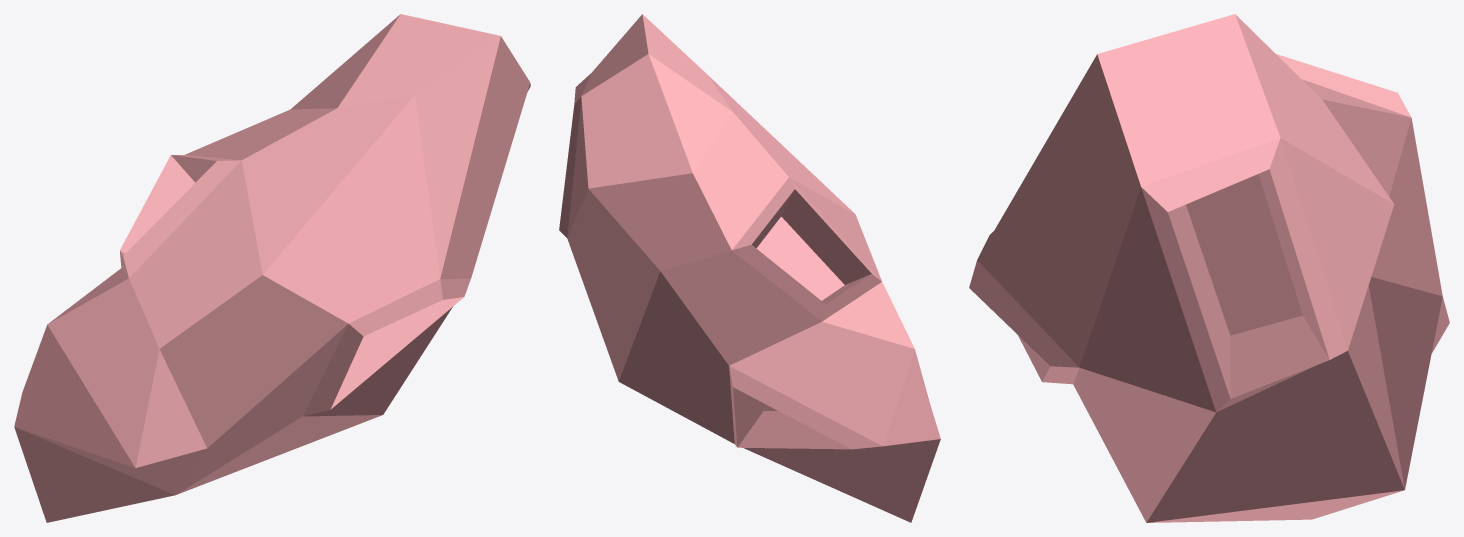
Rendered from asteroid-1.dae.
3 renders of one model, left to right at view 1: azimuth 30°, elevation 25°; view 2: azimuth 150°, elevation 25°; view 3: azimuth 270°, elevation 25°, orthographic. The views are drawn at different scales.
Parts seen in each view (by area): view 1: Sphere003; view 2: Sphere003; view 3: Sphere003.
Boxes of the visible parts, x1=… form: Sphere003: x1=14, y1=14, x2=530, y2=522; Sphere003: x1=559, y1=14, x2=940, y2=522; Sphere003: x1=969, y1=14, x2=1449, y2=522.
Bounding box in the file's own units: 96.63 × 87.65 × 57.86.
